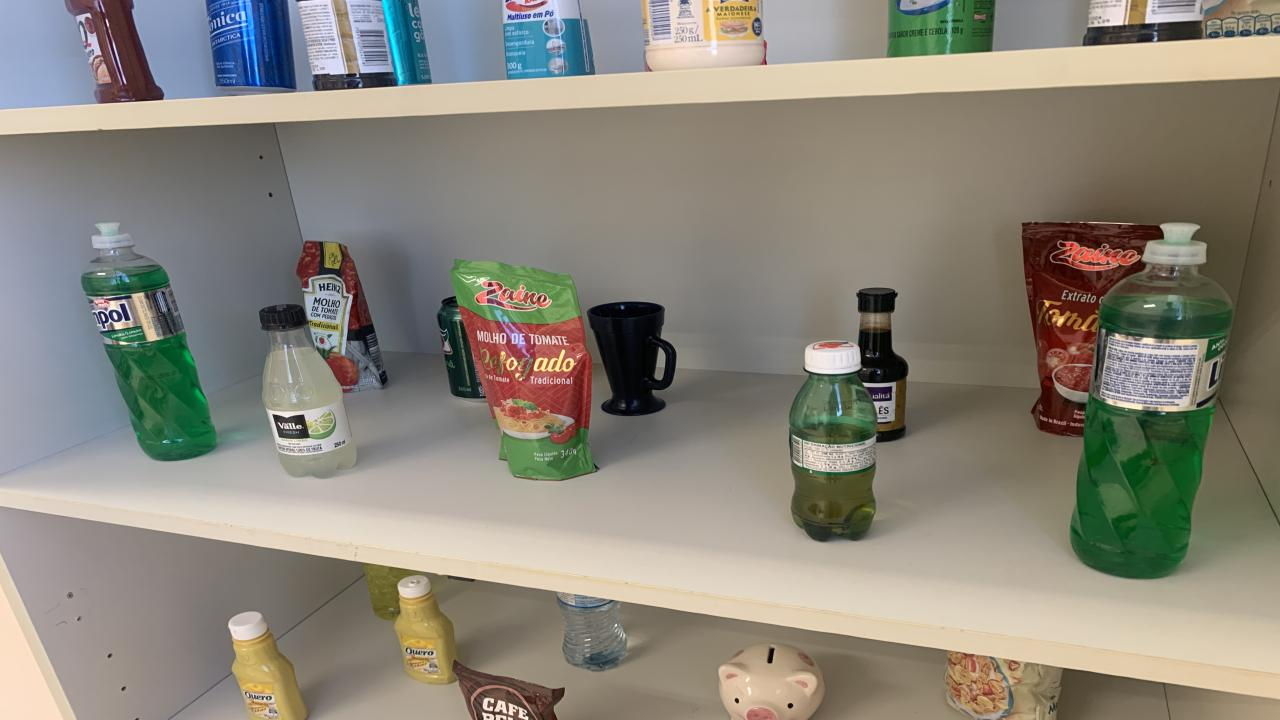Cleaner-Cleanup_Items: (502, 0, 595, 79)
Coffee-Pantry_Items: (452, 660, 565, 720)
Detergent-Cleanup_Items: (1070, 223, 1235, 578), (80, 223, 215, 461), (362, 564, 418, 621)
English_Sauce-Pantry_Items: (298, 0, 398, 90), (858, 287, 908, 442), (1082, 0, 1202, 45)
Flakes-Snacks: (945, 651, 1062, 720), (1202, 0, 1280, 38)
Guarana-Drinks: (790, 339, 878, 542)
Guarana_Can-Drinks: (438, 296, 485, 399)
Ketchup-Pantry_Items: (65, 0, 165, 103)
Mayonnaise-Pantry_Items: (642, 0, 765, 71)
Mustard-Pantry_Items: (228, 611, 308, 720), (395, 574, 458, 684)
Pig_Safe-Miscellaneous: (718, 643, 825, 720)
Pringles-Snacks: (888, 0, 995, 56)
Soda-Drinks: (260, 304, 355, 478)
Tea-Drinks: (382, 0, 432, 86)
Tomato_Sauce-Pantry_Items: (450, 259, 595, 480), (1022, 223, 1162, 437), (298, 240, 388, 392)
Tonic-Drinks: (205, 0, 298, 94)
Water_Bottle-Drinks: (558, 592, 628, 671)
